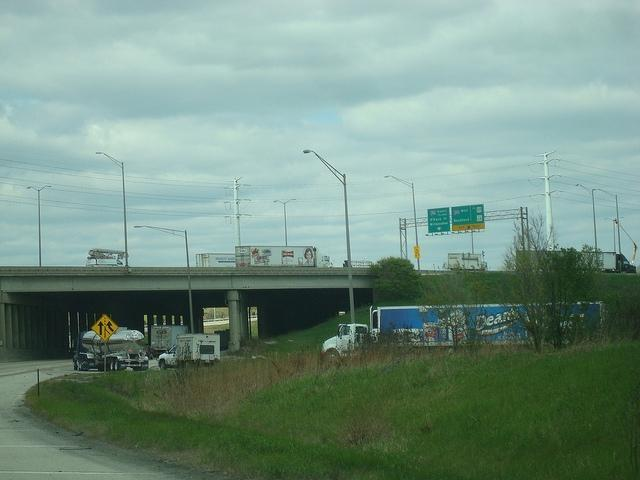truck: (320, 302, 610, 364), (73, 313, 150, 373), (150, 327, 224, 370), (236, 246, 331, 268), (602, 251, 636, 273), (151, 326, 187, 346), (196, 254, 237, 267)
